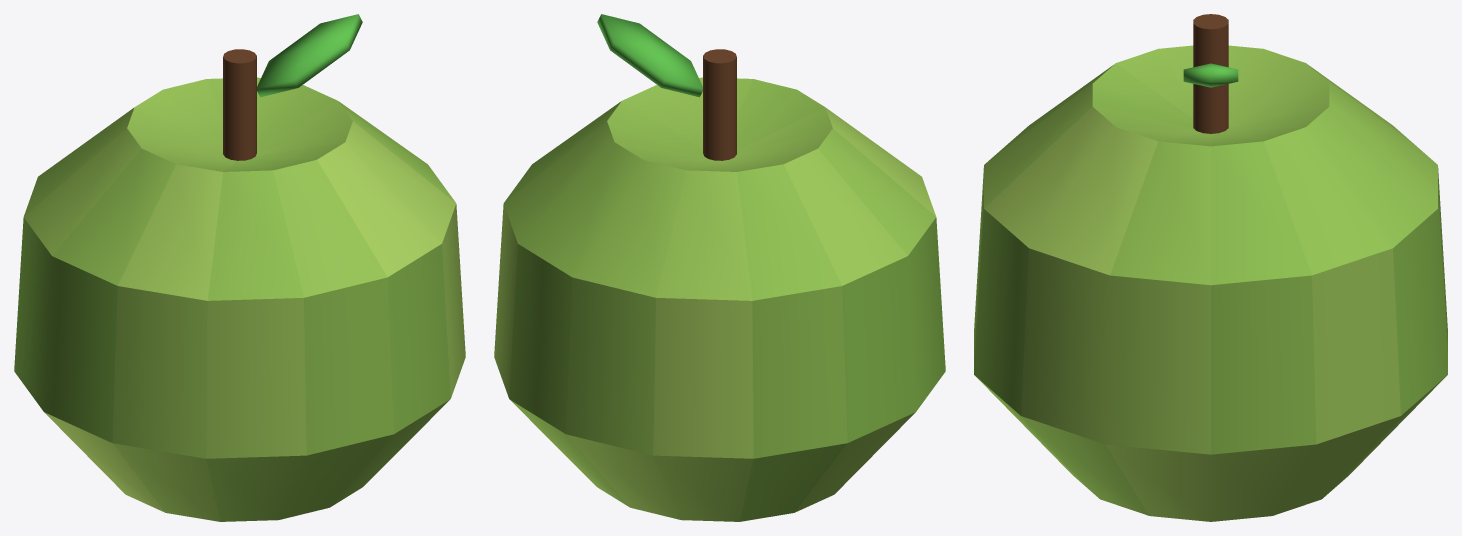
File: apple_green.glb
3 renders of one model, left to right at view 1: azimuth 30°, elevation 25°; view 2: azimuth 150°, elevation 25°; view 3: azimuth 270°, elevation 25°, orthographic. The views are drawn at different scales.
Visible parts, largest first — view 1: apple_green, apple_green_leaf, apple_green_stalk; view 2: apple_green, apple_green_leaf, apple_green_stalk; view 3: apple_green, apple_green_stalk, apple_green_leaf.
Part boxes in pixels (bbox=[...]): apple_green: bbox=[14, 77, 465, 521]; apple_green_leaf: bbox=[257, 14, 362, 97]; apple_green_stalk: bbox=[223, 49, 256, 160]; apple_green: bbox=[494, 77, 945, 521]; apple_green_leaf: bbox=[597, 14, 702, 97]; apple_green_stalk: bbox=[703, 49, 736, 160]; apple_green: bbox=[974, 45, 1447, 521]; apple_green_stalk: bbox=[1193, 14, 1228, 133]; apple_green_leaf: bbox=[1183, 63, 1238, 87].
Bounding box in the file's own units: 0.24 × 0.2478 × 0.234.
